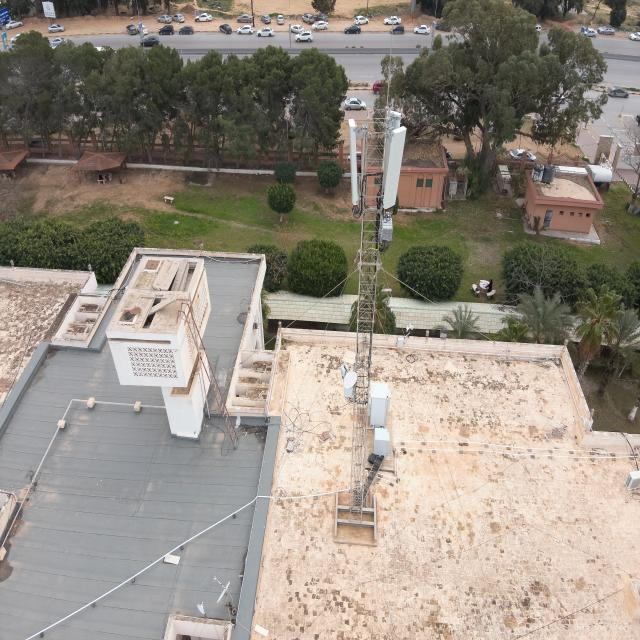antenna: (382, 124, 407, 210), (380, 109, 403, 199), (348, 116, 358, 206)
lighnig-rad: (386, 17, 394, 110)
microware-dish: (341, 364, 358, 390)
radio-unit: (379, 210, 395, 242)
